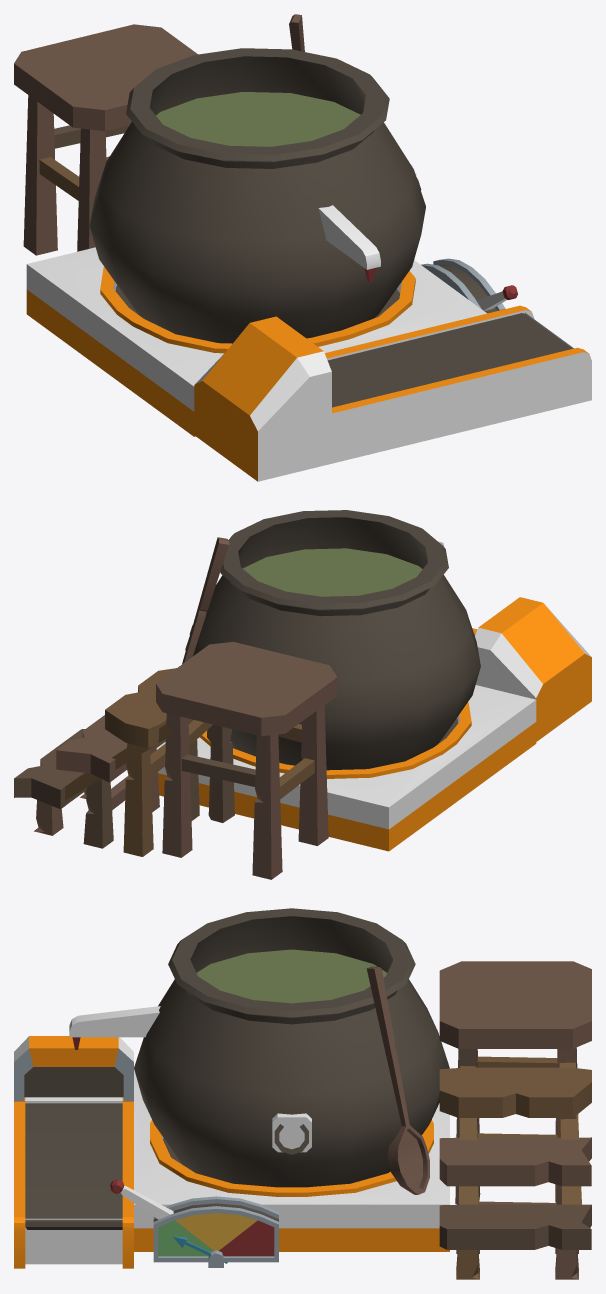
The model's file is 3D_workstation_cooking pot.fbx.
3 renders of one model, top to bottom at view 1: azimuth 30°, elevation 25°; view 2: azimuth 150°, elevation 25°; view 3: azimuth 270°, elevation 25°, orthographic. The views are drawn at different scales.
Parts seen in each view (by area): view 1: 3D_workstation_cooking pot_station, 3D_workstation_cooking pot_station.003, 3D_workstation_cooking pot_soup-plane; view 2: 3D_workstation_cooking pot_station, 3D_workstation_cooking pot_station.003, 3D_workstation_cooking pot_soup-plane, 3D_workstation_cooking pot_station.004; view 3: 3D_workstation_cooking pot_station, 3D_workstation_cooking pot_station.003, 3D_workstation_cooking pot_soup-plane, 3D_workstation_cooking pot_station.004, 3D_workstation_cooking pot_station.001.
Boxes of the visible parts, x1,y1,x2,y2 form: 3D_workstation_cooking pot_station: [26, 48, 591, 481]; 3D_workstation_cooking pot_station.003: [14, 24, 197, 255]; 3D_workstation_cooking pot_soup-plane: [156, 92, 360, 146]; 3D_workstation_cooking pot_station: [156, 510, 591, 851]; 3D_workstation_cooking pot_station.003: [14, 641, 337, 879]; 3D_workstation_cooking pot_soup-plane: [243, 548, 422, 596]; 3D_workstation_cooking pot_station.004: [182, 537, 229, 663]; 3D_workstation_cooking pot_station: [14, 908, 449, 1268]; 3D_workstation_cooking pot_station.003: [439, 961, 591, 1279]; 3D_workstation_cooking pot_soup-plane: [196, 949, 386, 1003]; 3D_workstation_cooking pot_station.004: [366, 966, 429, 1194]; 3D_workstation_cooking pot_station.001: [110, 1179, 173, 1219].
Bounding box in the file's own units: 2.35 × 1.79 × 3.54.
